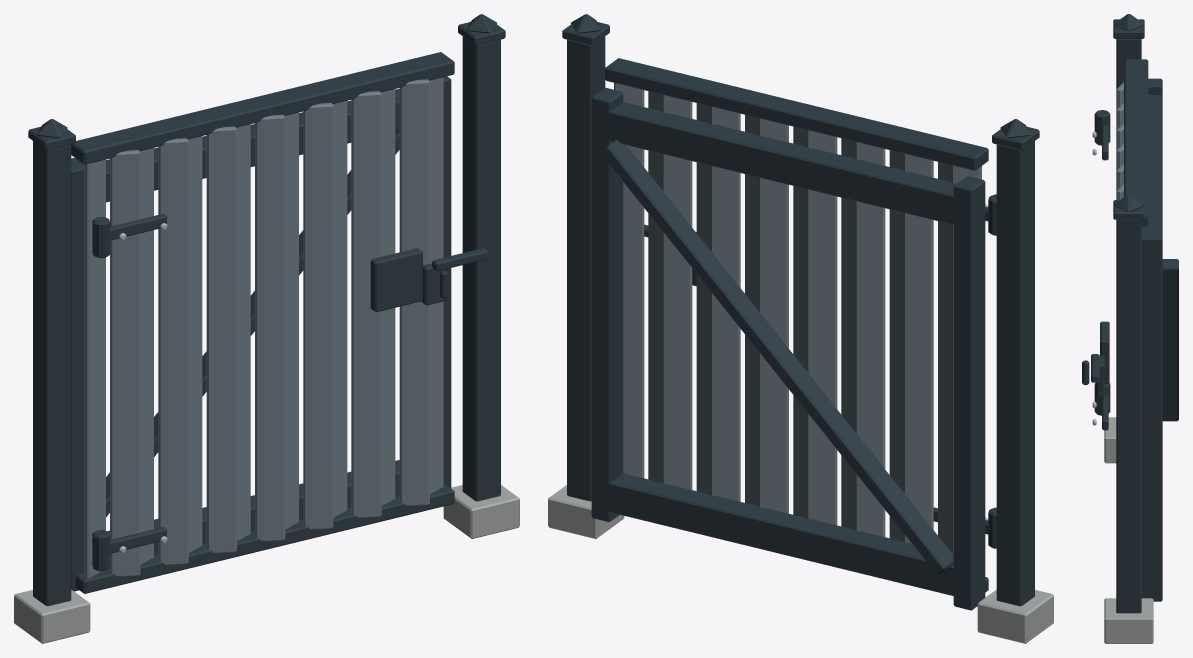
The model's file is b19_corrugated_utility_yard_gate.glb.
3 renders of one model, left to right at view 1: azimuth 30°, elevation 25°; view 2: azimuth 150°, elevation 25°; view 3: azimuth 270°, elevation 25°, orthographic. The views are drawn at different scales.
Parts seen in each view (by area): view 1: b19_corrugated_utility_yard_gate; view 2: b19_corrugated_utility_yard_gate; view 3: b19_corrugated_utility_yard_gate.
Part boxes in pixels (bbox=[...]): b19_corrugated_utility_yard_gate: bbox=[14, 14, 519, 643]; b19_corrugated_utility_yard_gate: bbox=[548, 14, 1053, 643]; b19_corrugated_utility_yard_gate: bbox=[1082, 14, 1178, 643].
Size of the model in its own units: 1.99 by 2.01 by 0.4022.
